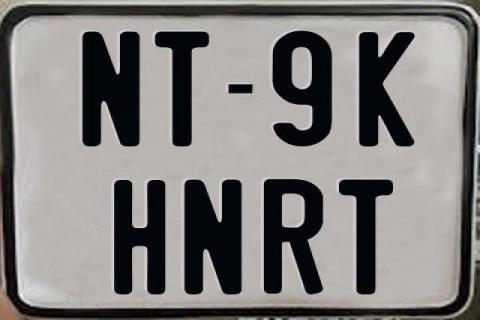0: (270, 28, 333, 148)
H: (113, 178, 167, 294)
K: (359, 31, 419, 149)
N: (184, 177, 246, 295), (81, 30, 139, 148)
R: (263, 178, 328, 296)
T: (153, 29, 210, 149), (336, 177, 393, 293)
